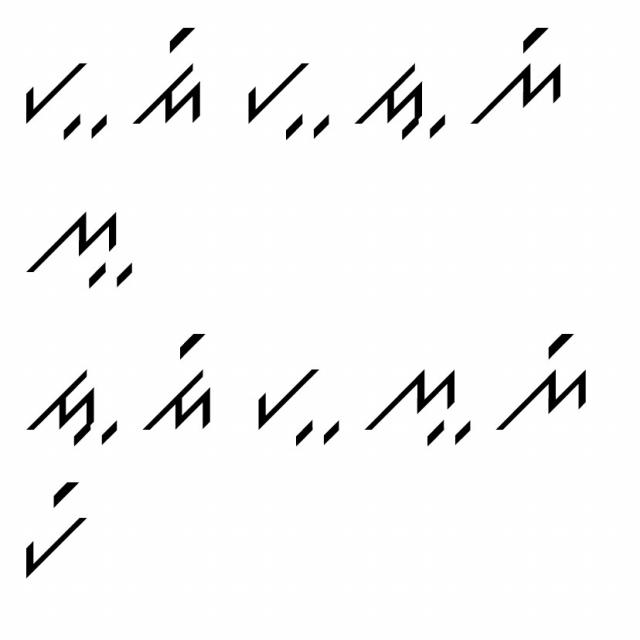dah: (348, 55, 451, 148), (22, 361, 120, 451)
dang: (138, 328, 222, 440), (128, 24, 210, 126)
nah: (21, 197, 141, 292), (366, 357, 474, 452)
nang: (468, 17, 570, 134), (492, 328, 596, 438)
pah: (237, 52, 337, 141), (13, 57, 113, 145), (252, 360, 346, 449)
pang: (19, 475, 98, 586)
